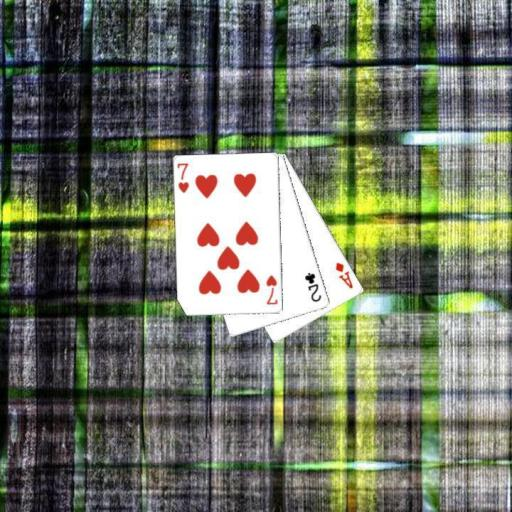card-corner: (301, 270, 323, 304), (333, 259, 355, 290), (174, 160, 191, 195), (263, 272, 279, 306)
